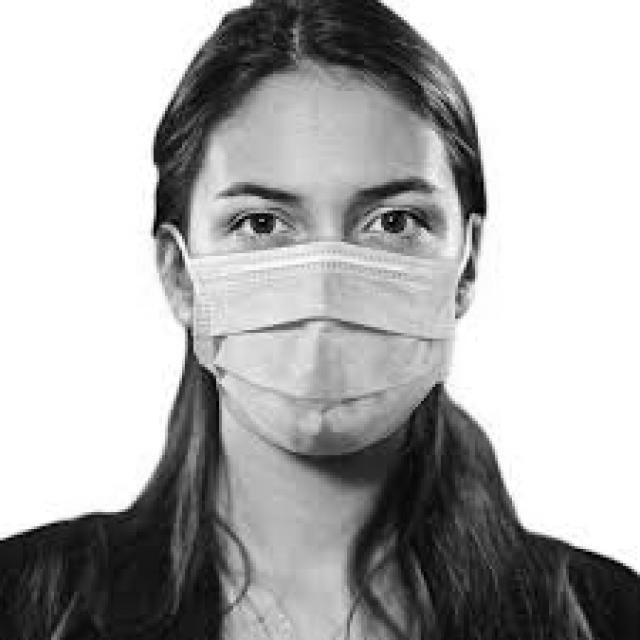fake: (172, 247, 467, 464)
real: (188, 61, 465, 465)
